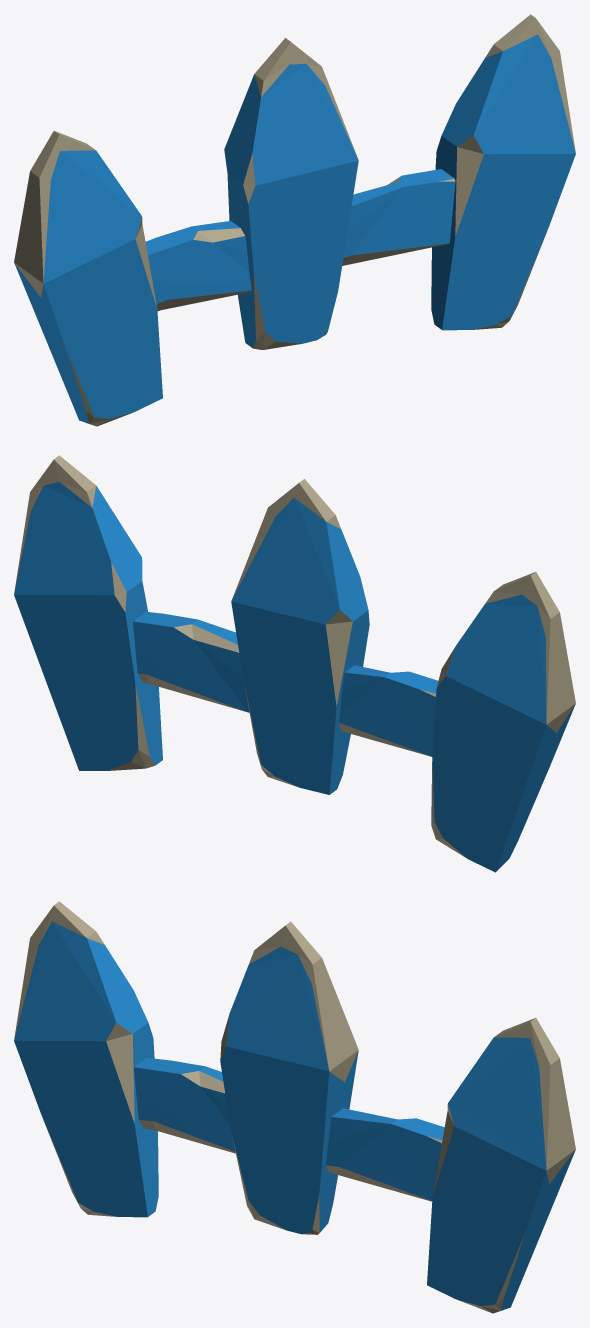
File: Railing_A_01.FBX
The picture shows the model from 3 angles, top to bottom: view 1: azimuth 30°, elevation 25°; view 2: azimuth 150°, elevation 25°; view 3: azimuth 330°, elevation 25°; orthographic projection.
Parts seen in each view (by area): view 1: Railing_A_01; view 2: Railing_A_01; view 3: Railing_A_01.
Boxes of the visible parts, x1,y1,x2,y2 form: Railing_A_01: [14, 14, 575, 426]; Railing_A_01: [14, 455, 575, 872]; Railing_A_01: [14, 901, 575, 1313].
Size of the model in its own units: 3.09 by 1.87 by 0.2959.
